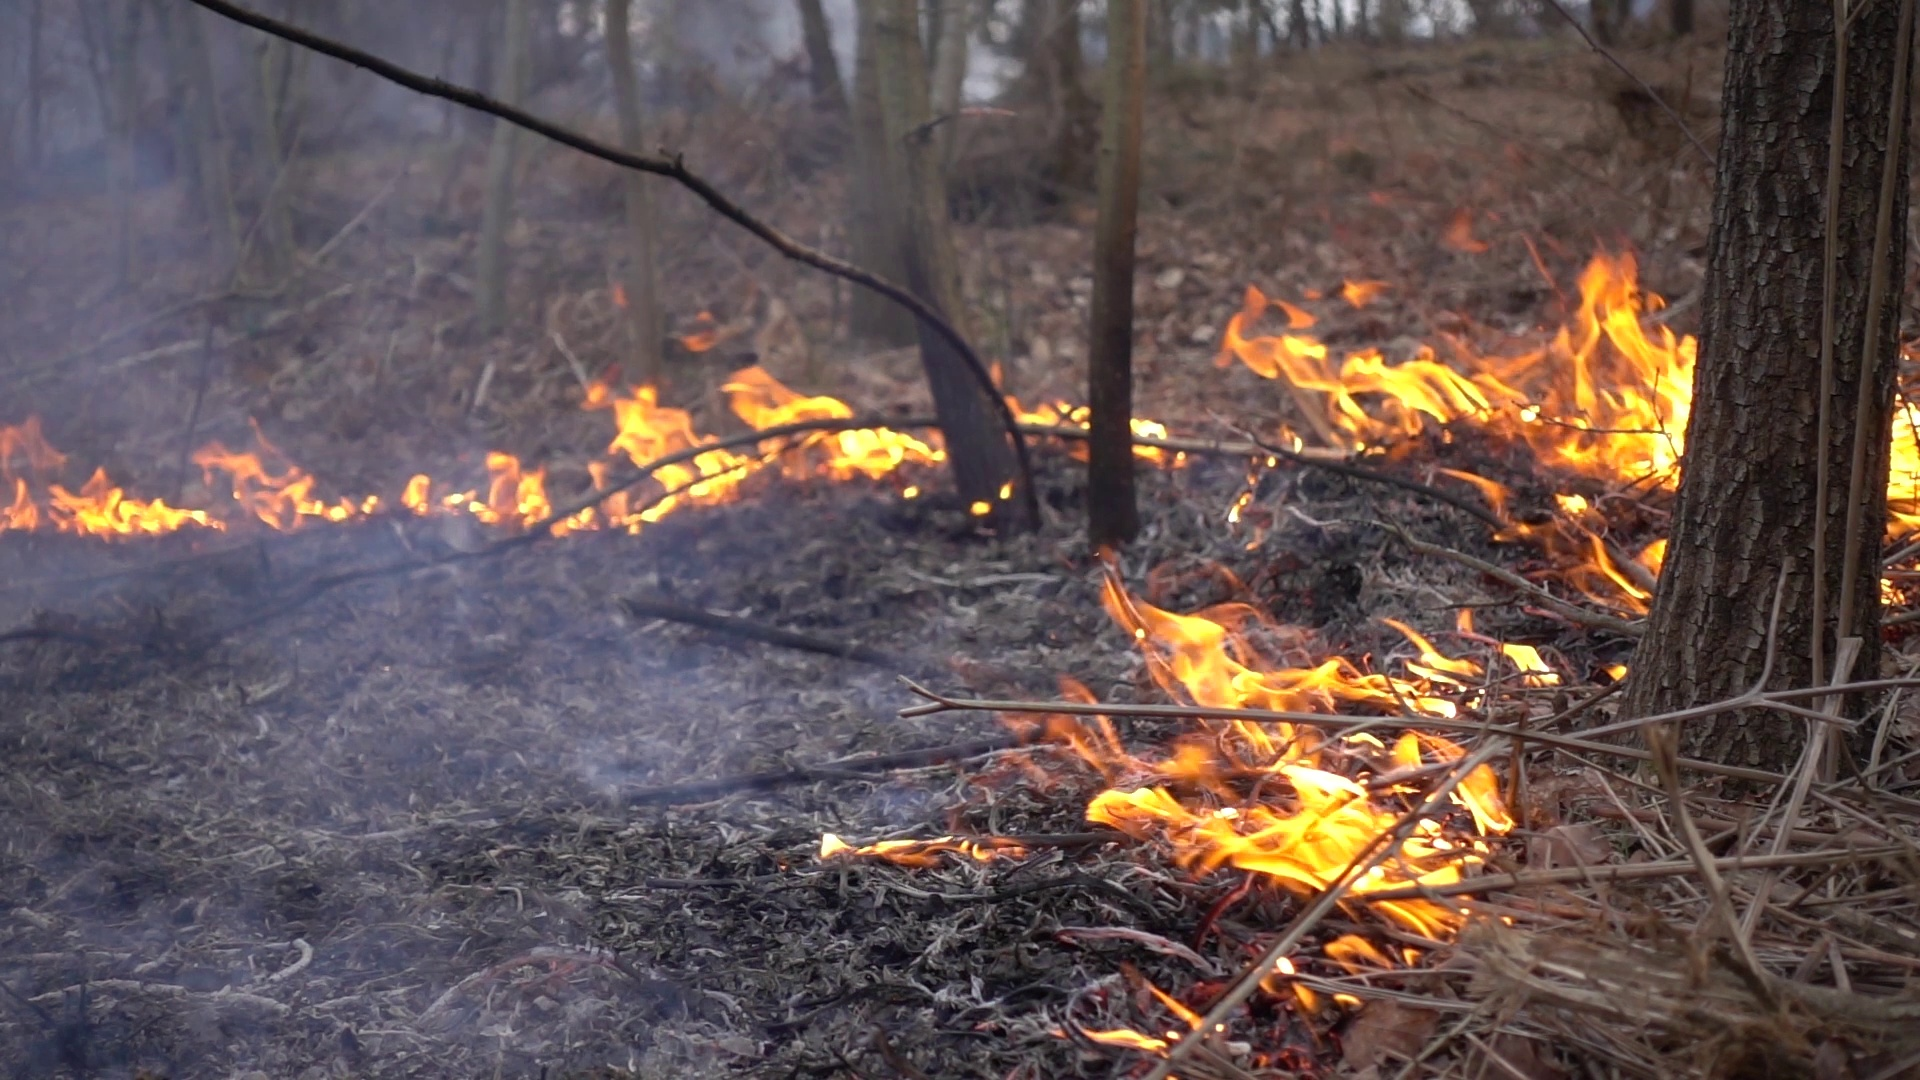fire: (1046, 578, 1501, 956), (1232, 260, 1692, 492), (578, 357, 903, 524), (191, 450, 356, 527), (396, 450, 549, 524), (7, 472, 162, 537), (1886, 392, 1920, 501)
